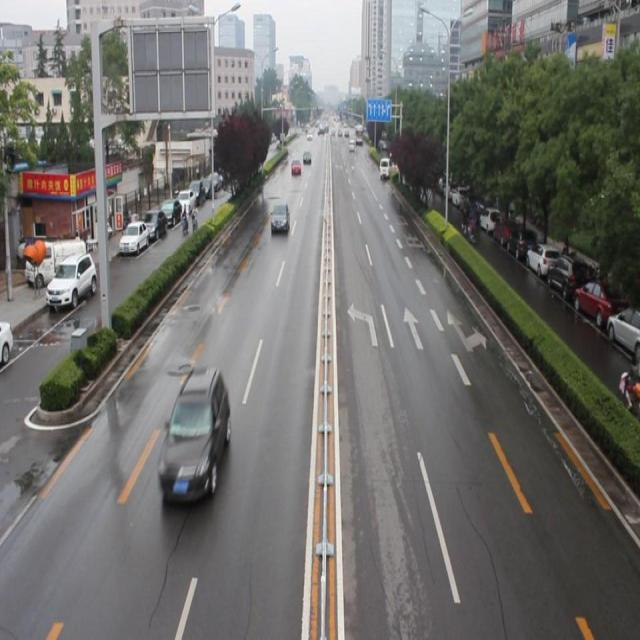car: (157, 369, 231, 500), (270, 200, 290, 232), (289, 157, 302, 175)
truck: (378, 154, 390, 180)
